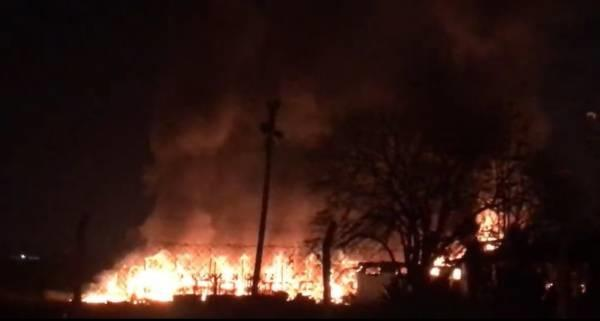fire: (100, 259, 171, 305), (270, 261, 352, 298), (178, 260, 243, 294)
smoke: (162, 57, 254, 212)
